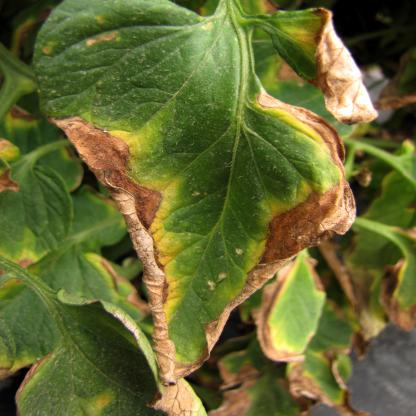tomato leaf bacterial spot: (23, 3, 387, 391)
